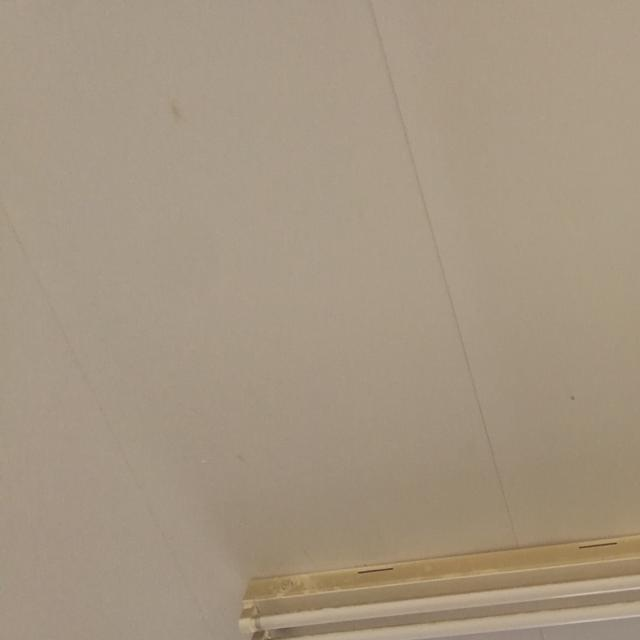fluorescent tube: (213, 462, 640, 640)
